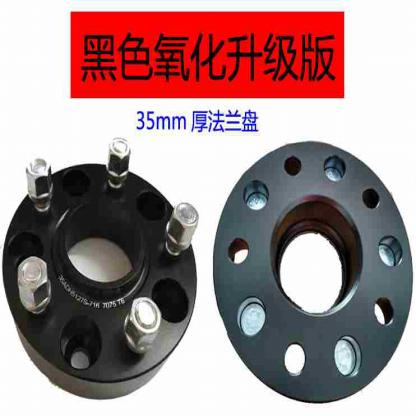FOD: (210, 137, 416, 406), (0, 158, 203, 402)
